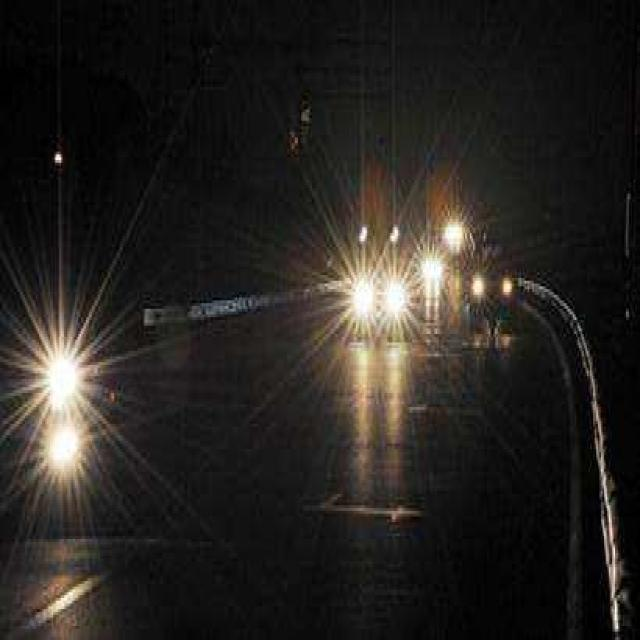other: (16, 286, 107, 498), (434, 181, 514, 332), (343, 254, 431, 365)
